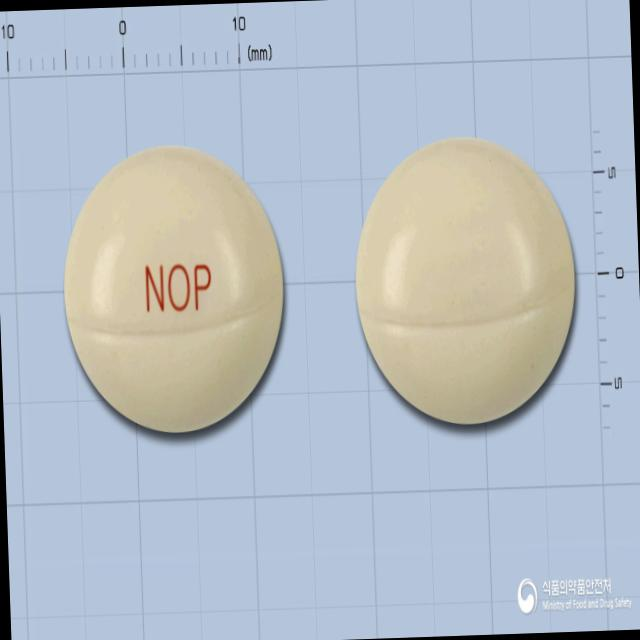Neopol Vaginal Soft Cap: (58, 138, 289, 439)
